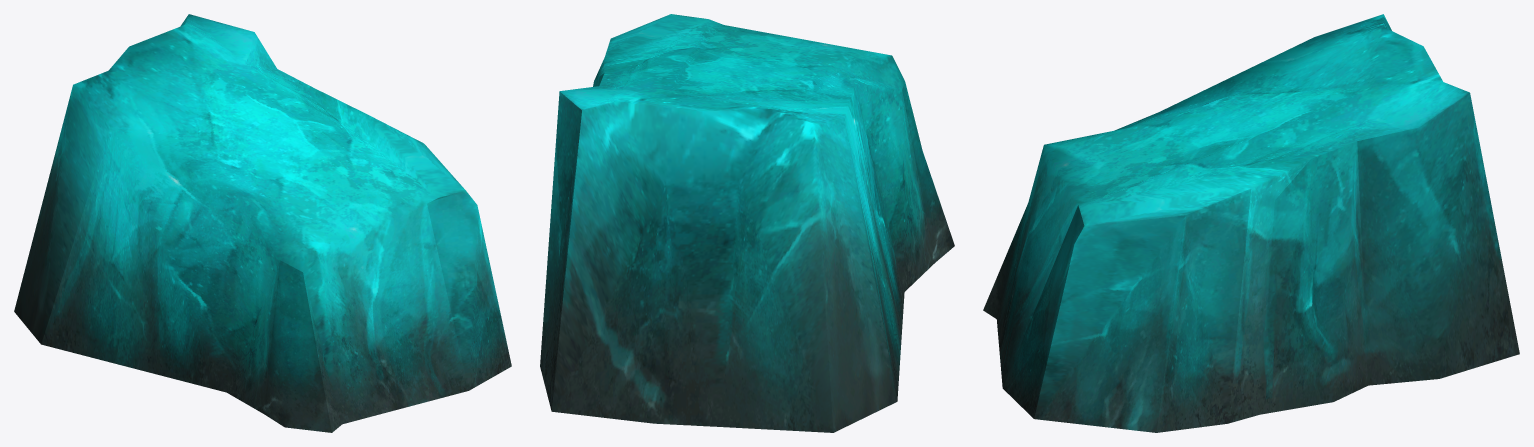
Rendered from icecrown_rock_01.obj.
3 views of the same model, side by side, from view 1: azimuth 30°, elevation 25°; view 2: azimuth 150°, elevation 25°; view 3: azimuth 270°, elevation 25° (orthographic). The views are drawn at different scales.
Visible parts, largest first — view 1: icecrown_rock_01; view 2: icecrown_rock_01; view 3: icecrown_rock_01.
Part boxes in pixels (box(x1,y1,x2,y2)): icecrown_rock_01: box(14, 14, 511, 432); icecrown_rock_01: box(540, 14, 954, 432); icecrown_rock_01: box(983, 14, 1519, 432).
Size of the model in its own units: 6.46 by 4.16 by 7.68.
